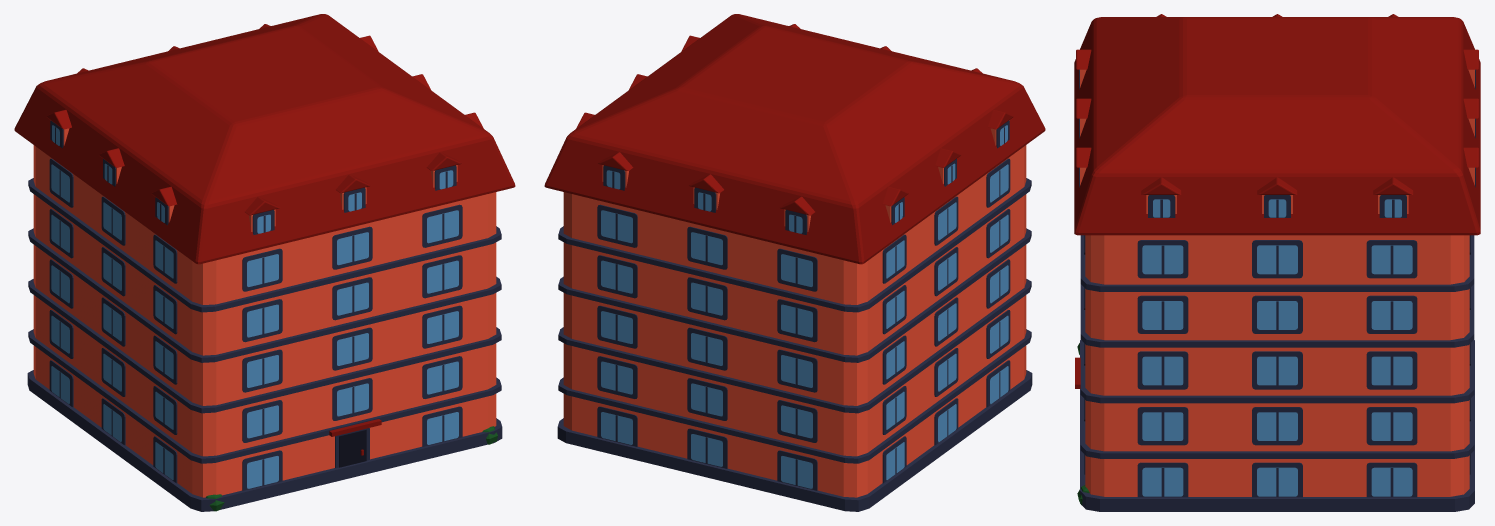
File: house-2x2-5f-mansard-c.glb
The picture shows the model from 3 angles, left to right: view 1: azimuth 30°, elevation 25°; view 2: azimuth 150°, elevation 25°; view 3: azimuth 270°, elevation 25°; orthographic projection. The views are drawn at different scales.
Visible parts, largest first — view 1: house-2x2-5f-mansard-c; view 2: house-2x2-5f-mansard-c; view 3: house-2x2-5f-mansard-c.
Part boxes in pixels (x1,y1,x2,y2): house-2x2-5f-mansard-c: (14, 14, 515, 511); house-2x2-5f-mansard-c: (544, 14, 1045, 511); house-2x2-5f-mansard-c: (1074, 14, 1480, 511).
Size of the model in its own units: 1.99 by 2.01 by 1.99.
1 material, 1 textured.
